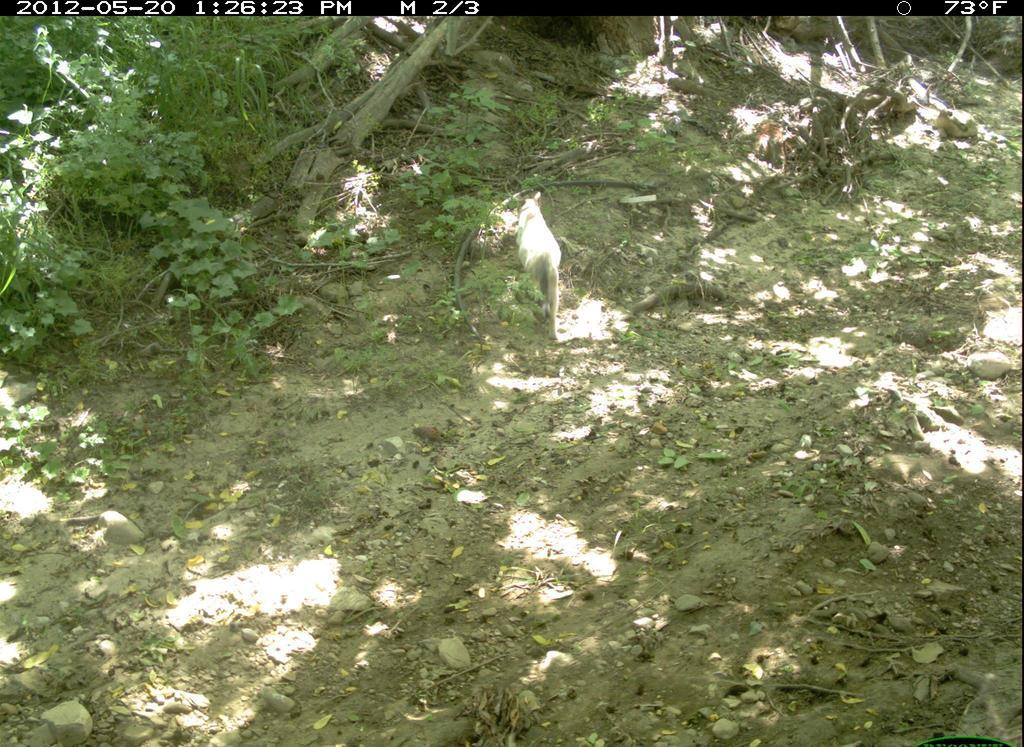cat: (493, 182, 589, 347)
